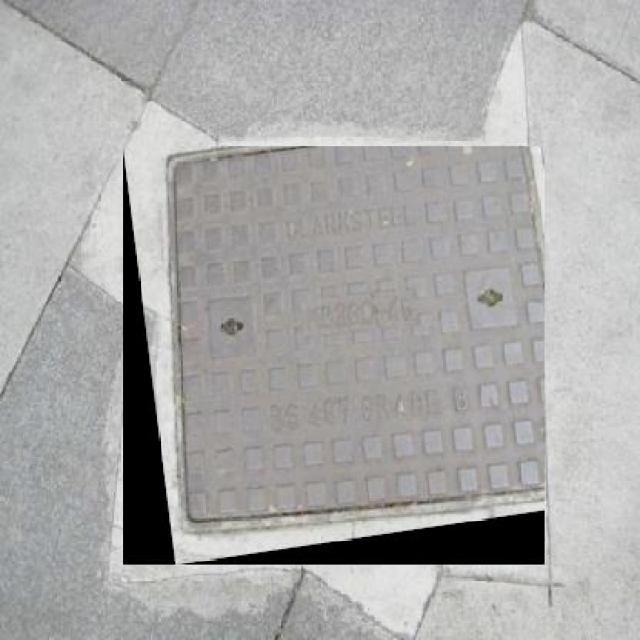Manhole: (123, 146, 545, 565)
